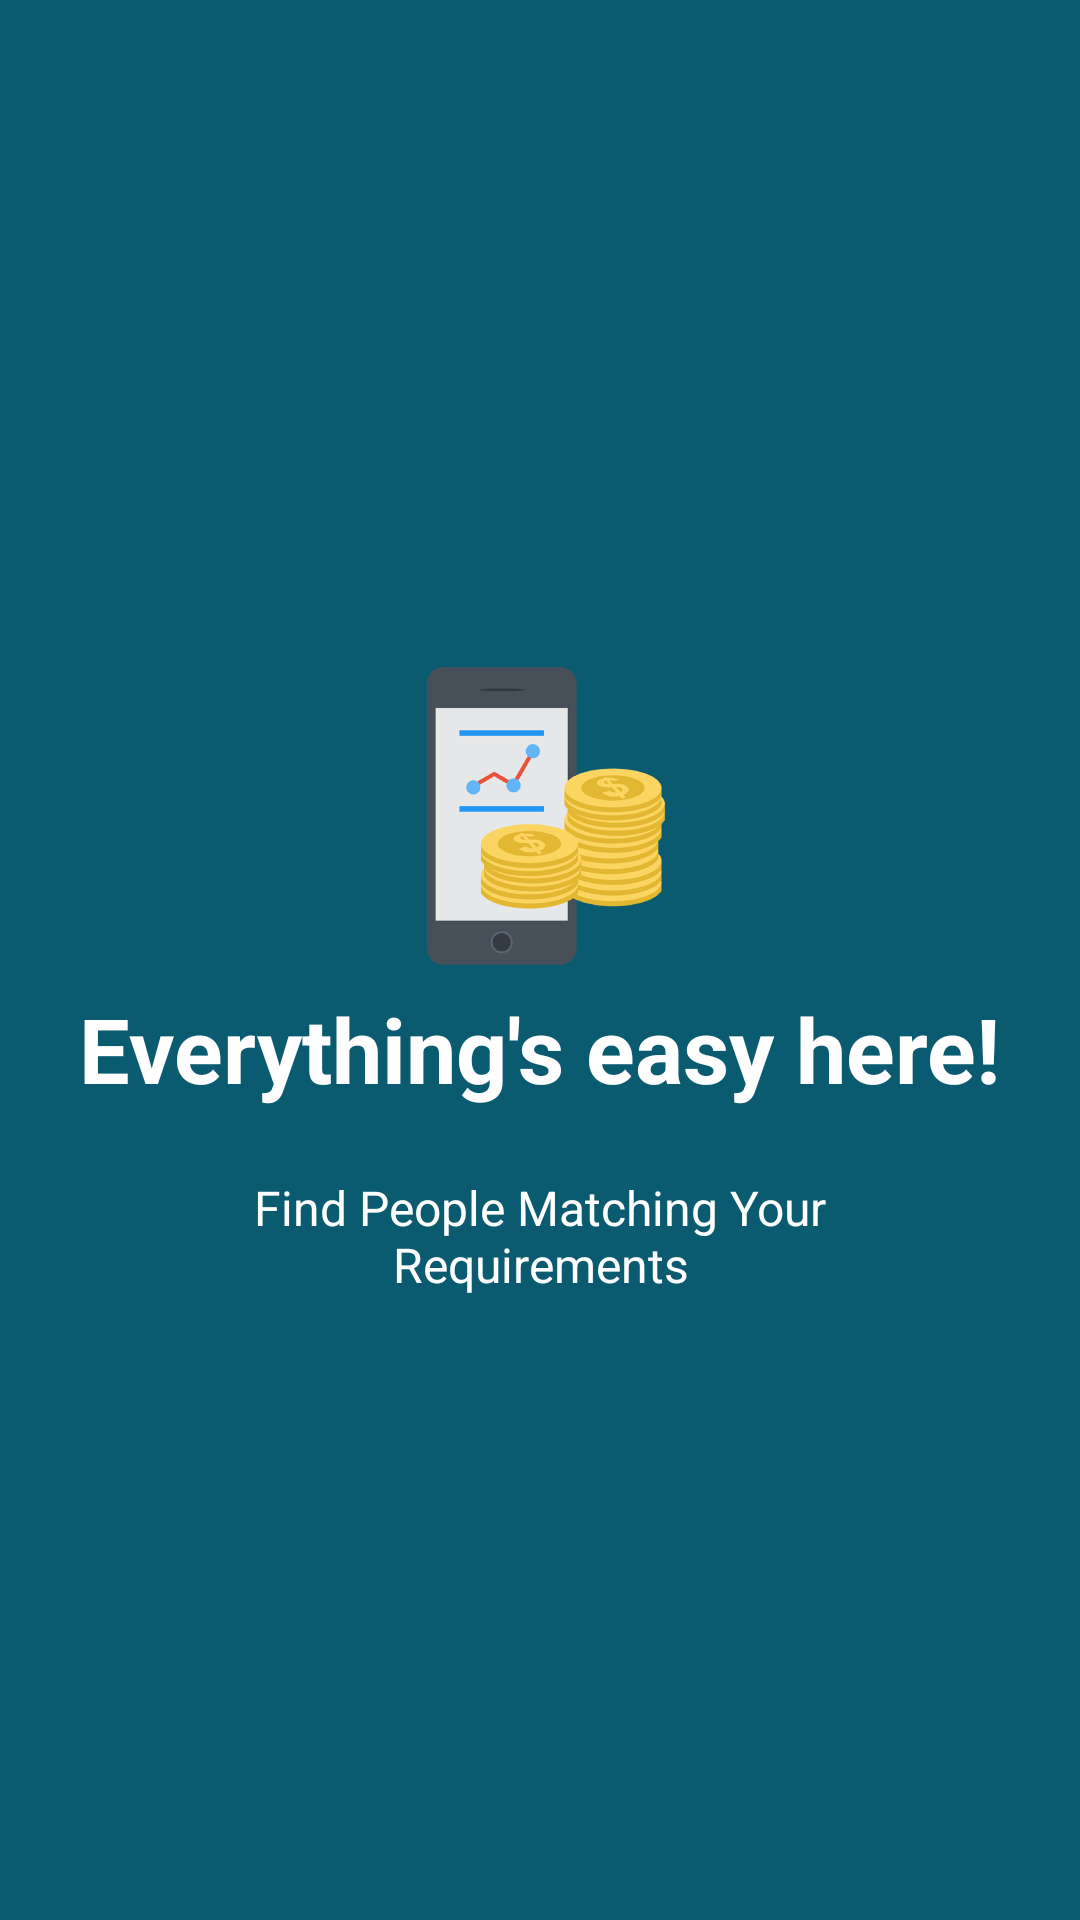

Locate icon controls on the screen. Image size 1080*1920, boxes as (x1, y1, x2, y2).
mwallet: (427, 667, 665, 965)
